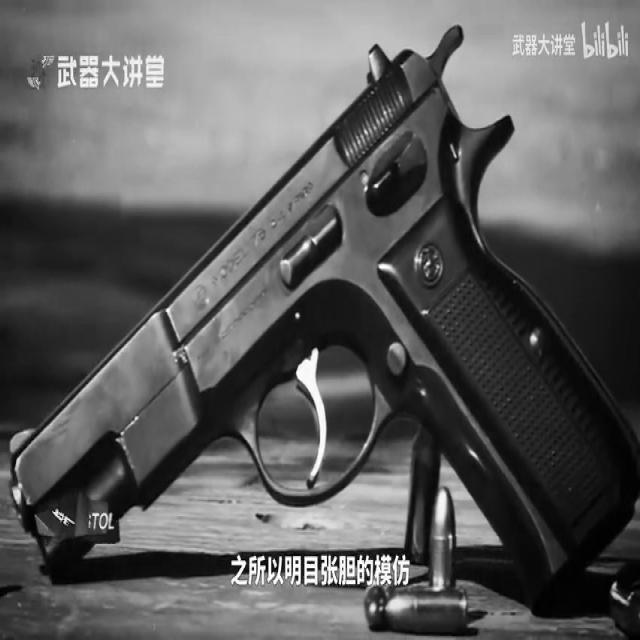Hand-Gun: (14, 31, 629, 620)
